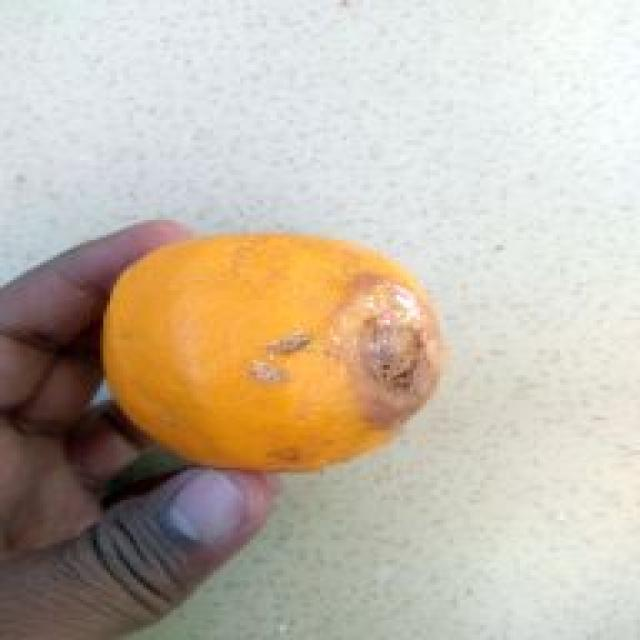Bad_Orange: (105, 234, 443, 469)
